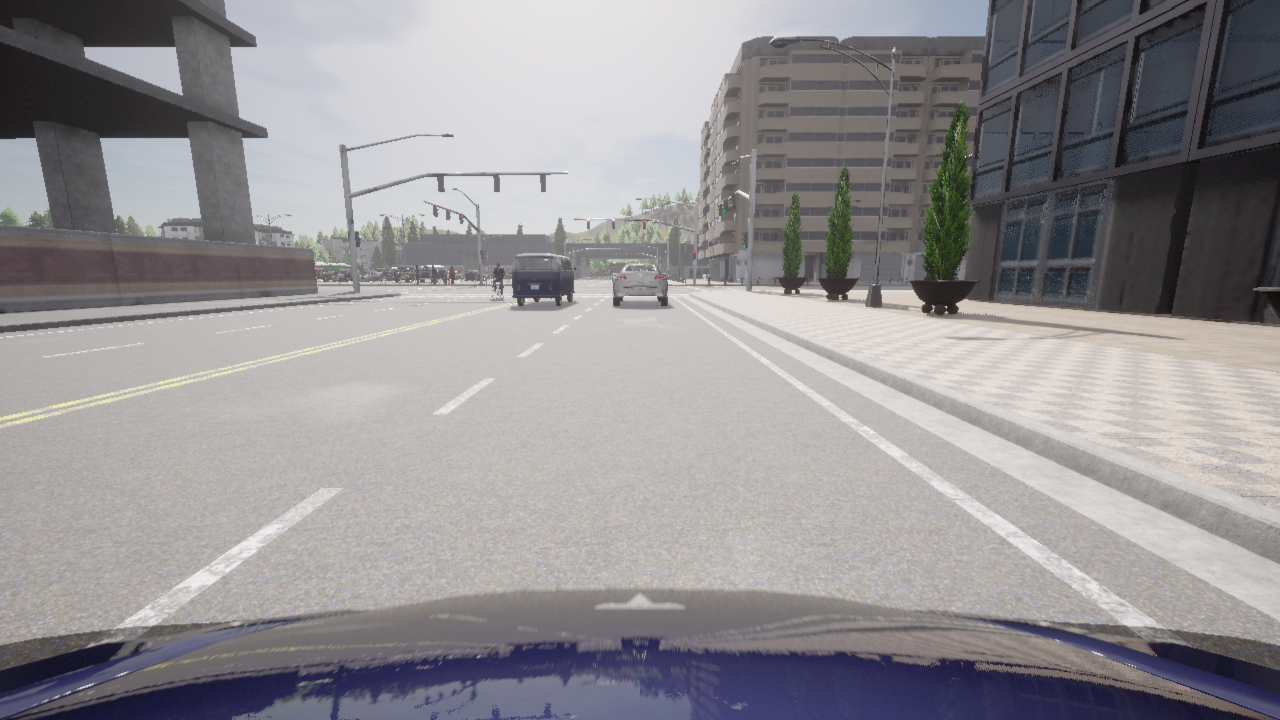cyclist: (0, 588, 1279, 719), (512, 253, 575, 305), (613, 263, 667, 305), (419, 265, 445, 282), (393, 268, 421, 282), (316, 268, 337, 281), (492, 279, 503, 299), (359, 271, 381, 281), (331, 271, 352, 281), (464, 270, 485, 280), (375, 268, 391, 280), (447, 272, 462, 280), (389, 268, 396, 280), (338, 269, 351, 272), (611, 273, 615, 281), (503, 272, 507, 278), (508, 271, 511, 278)
pedestrian: (449, 266, 454, 283), (432, 265, 435, 283), (415, 265, 418, 283), (443, 271, 447, 284), (448, 273, 450, 284)
